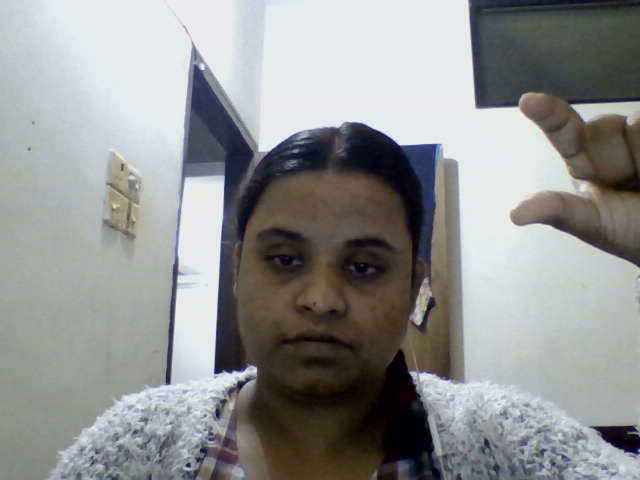No: (454, 59, 640, 321)
